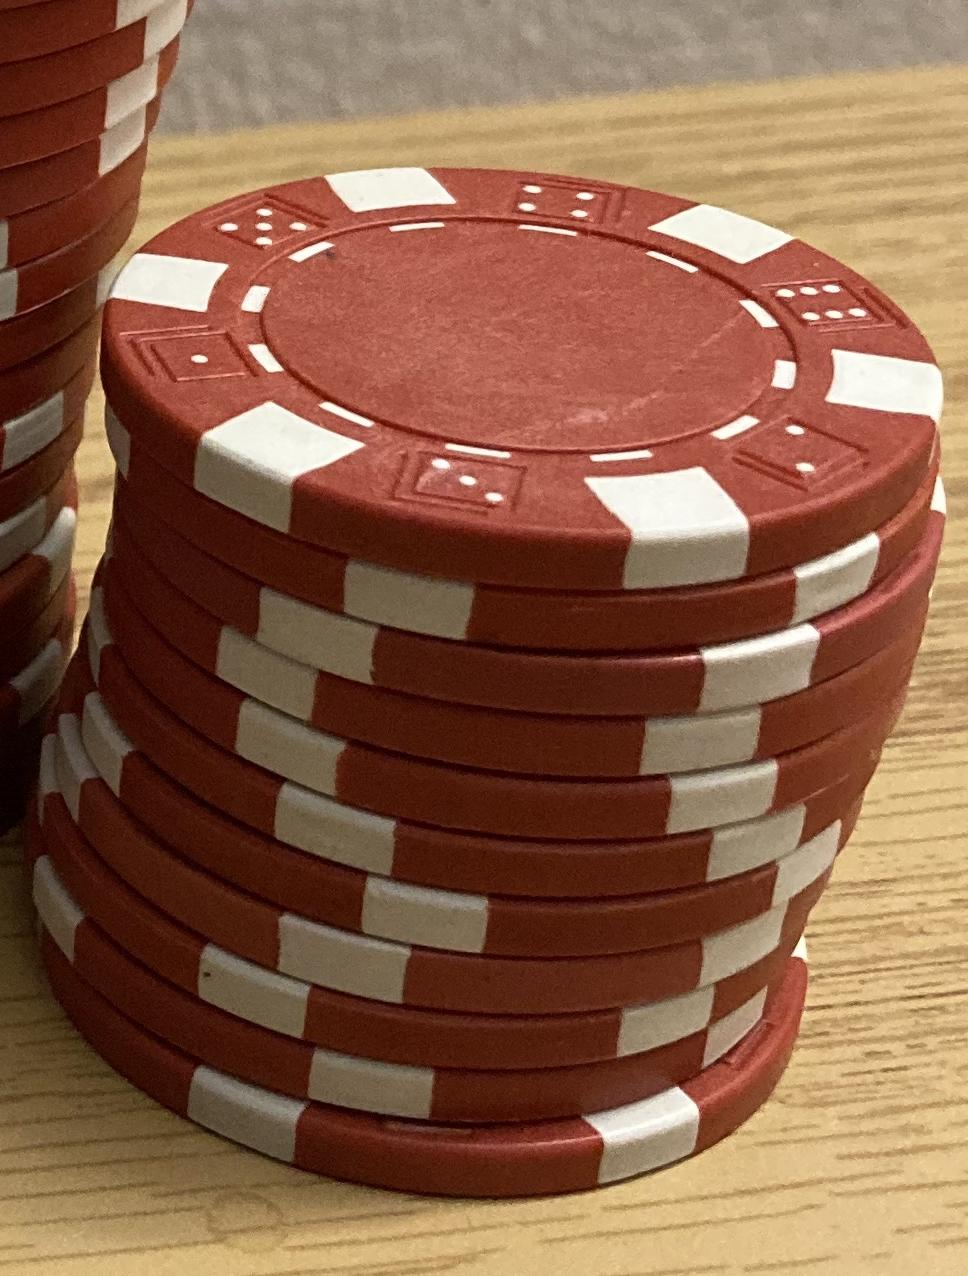Chip: (1, 1, 968, 1276)
